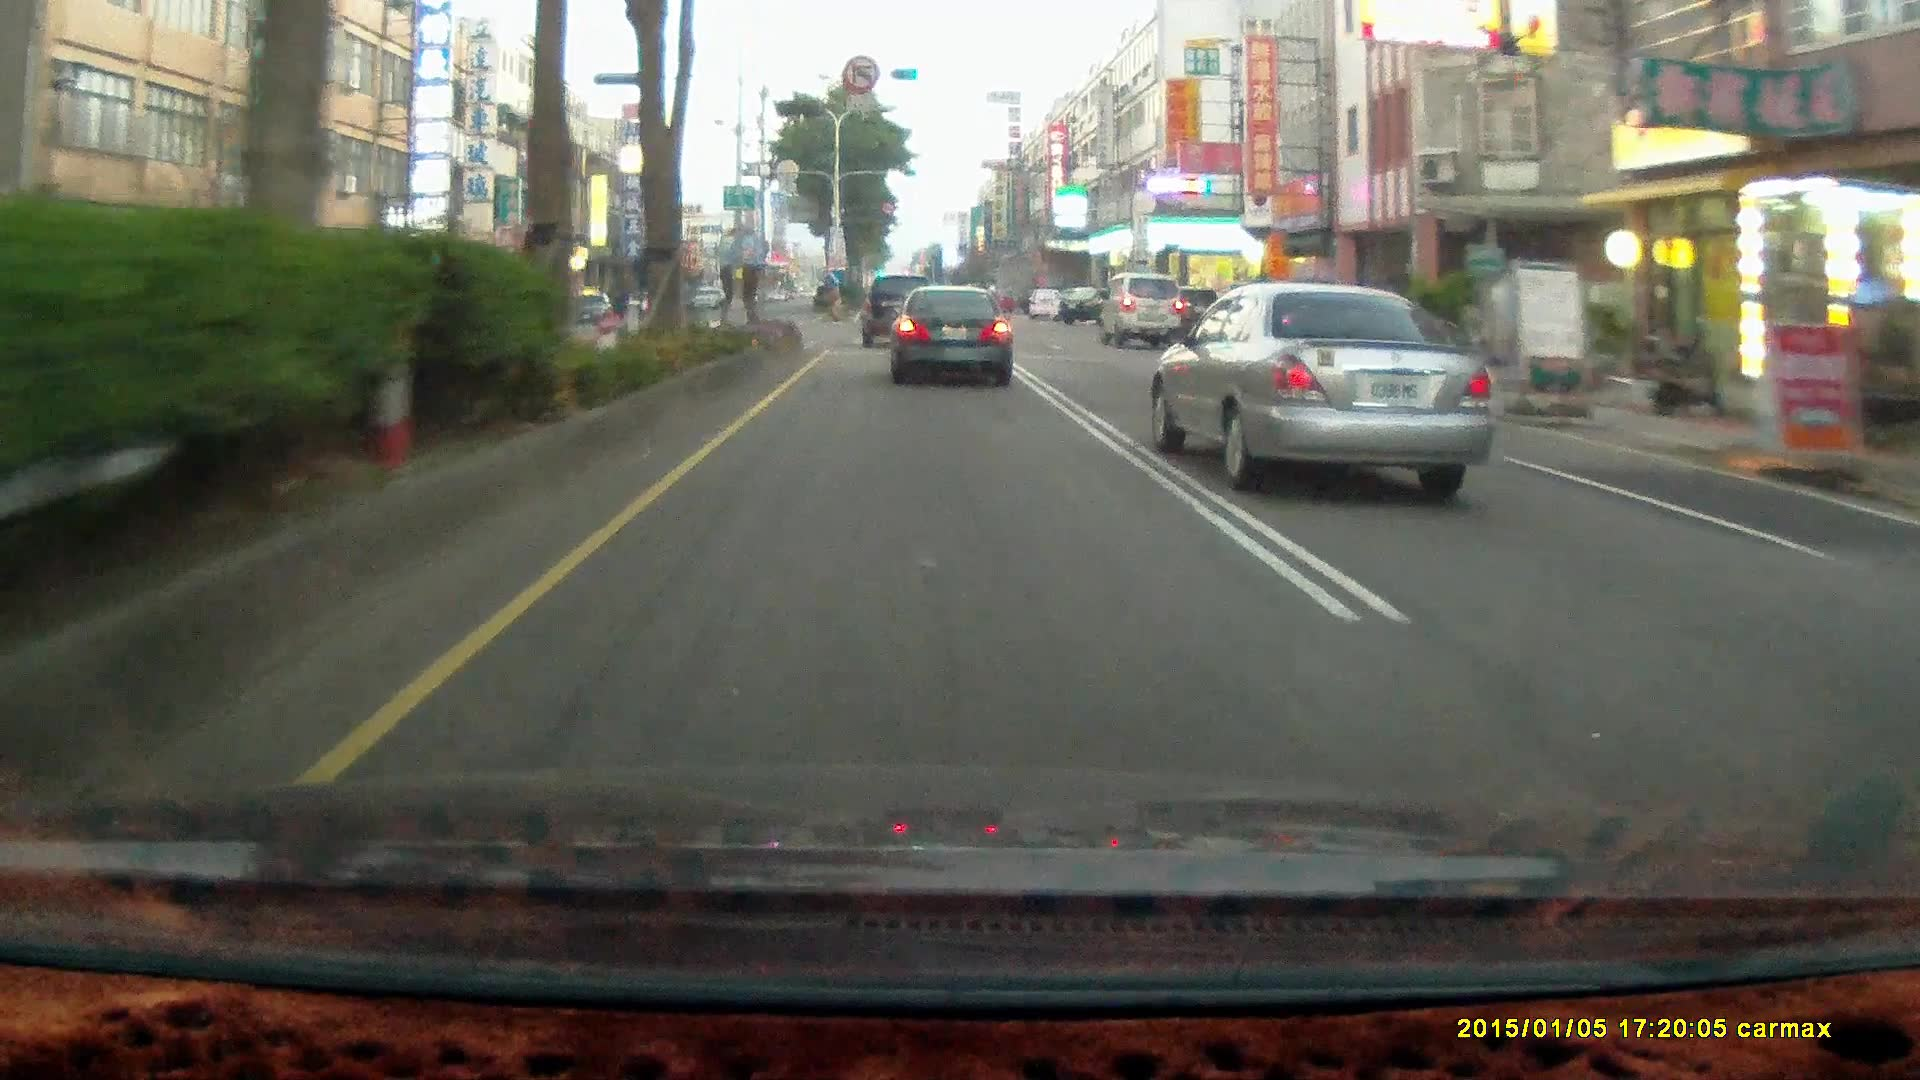vehicle: (1151, 285, 1499, 491), (889, 282, 1018, 390), (889, 281, 1011, 384), (1098, 270, 1185, 352), (1098, 272, 1184, 349), (861, 277, 940, 353), (861, 274, 938, 347), (1059, 284, 1124, 324), (1029, 287, 1064, 318), (576, 291, 612, 318)
